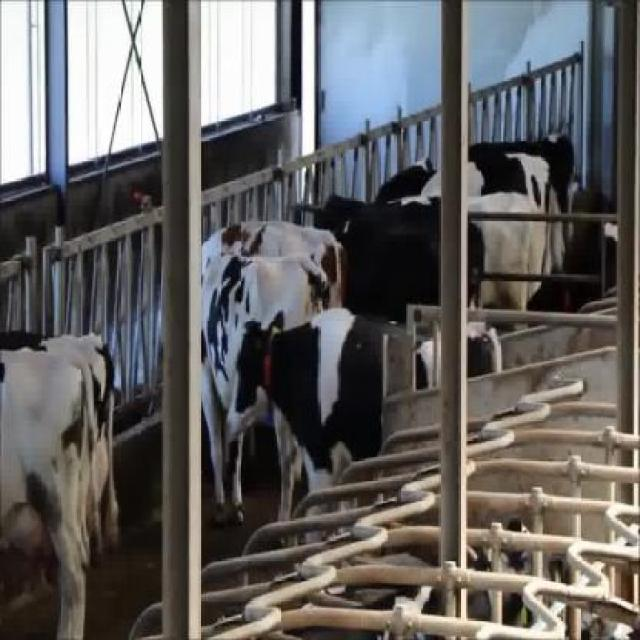Cow: (223, 304, 503, 528), (201, 248, 334, 528), (0, 352, 103, 638), (314, 192, 486, 326)
